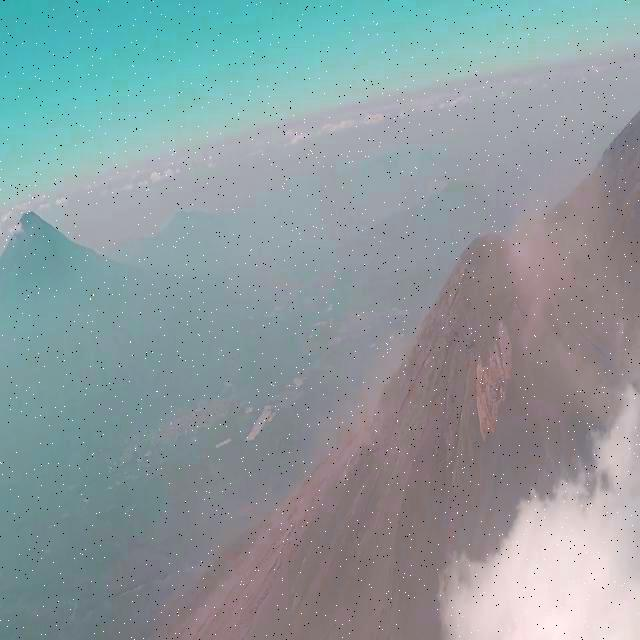Summit: (362, 218, 586, 456)
